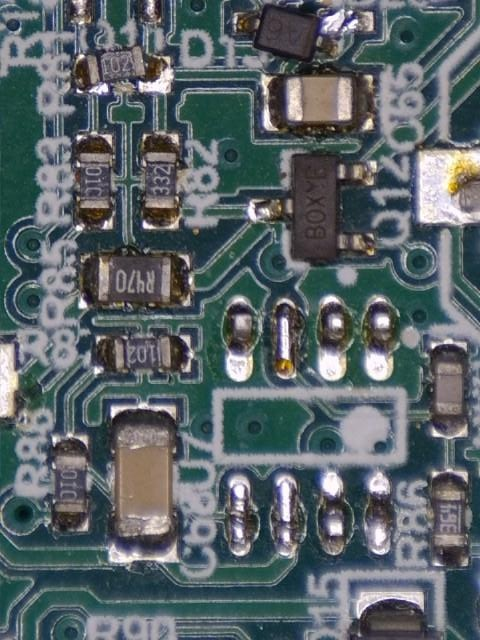pcb_defect: (233, 1, 378, 64), (74, 44, 174, 96)
